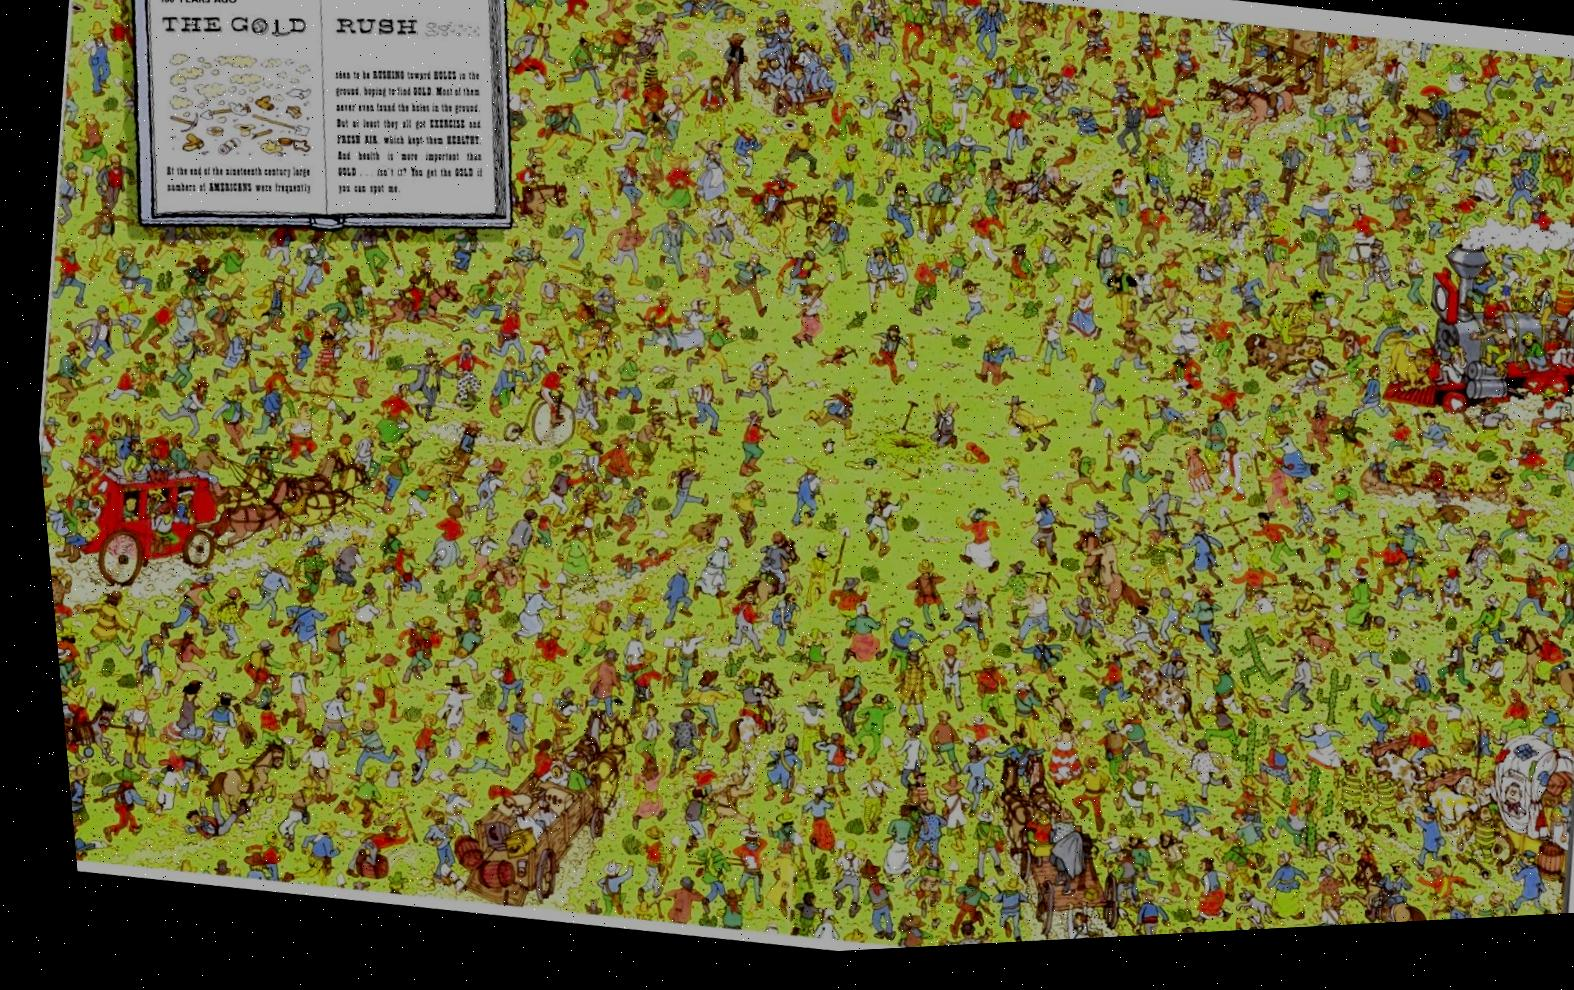waldo: (311, 333, 331, 352)
